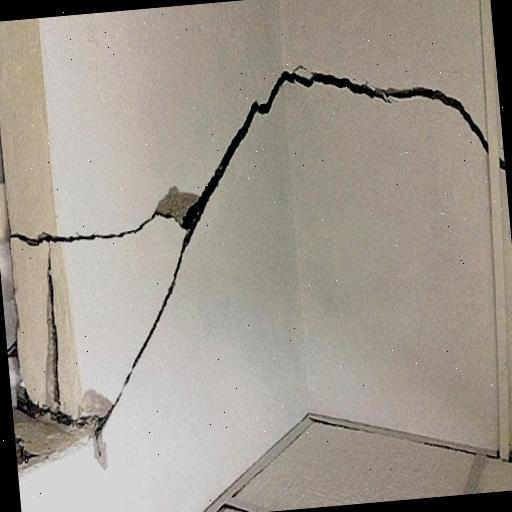spalling: (101, 61, 487, 434), (12, 206, 158, 249), (43, 242, 64, 406)
